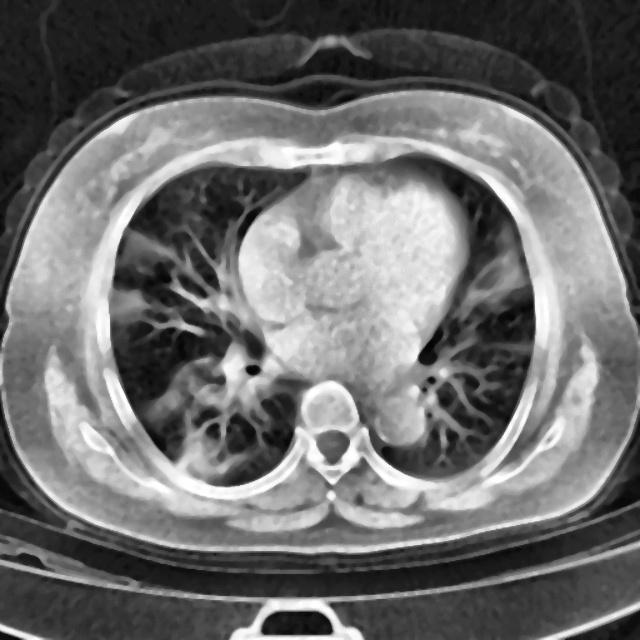covid: (1, 32, 638, 571)
